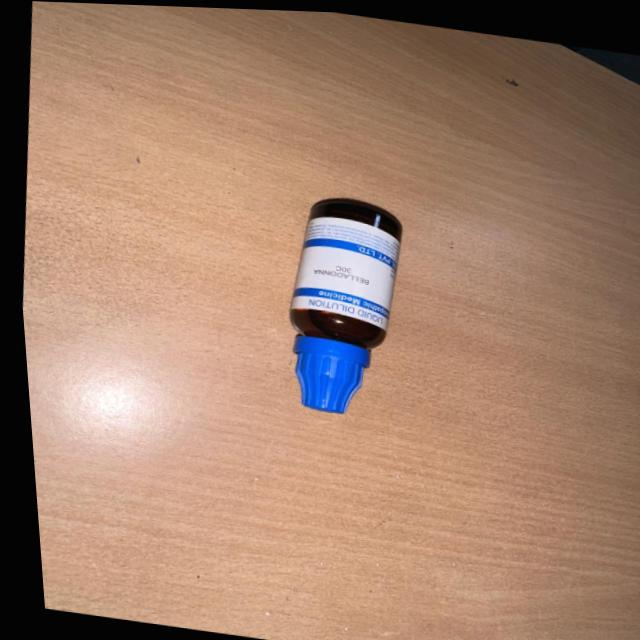medicine: (252, 186, 420, 419)
